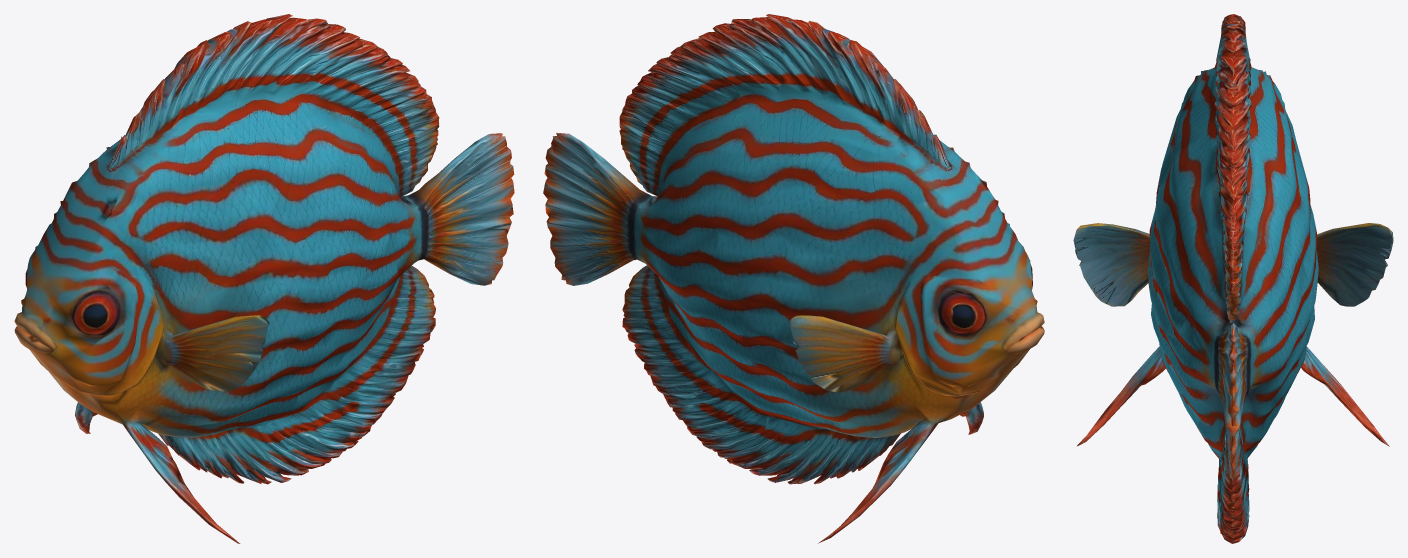
The model's file is fish-diskus.glb.
3 views of the same model, side by side, from view 1: azimuth 30°, elevation 25°; view 2: azimuth 150°, elevation 25°; view 3: azimuth 270°, elevation 25° (orthographic). The views are drawn at different scales.
Visible parts, largest first — view 1: tripo_node_a6161b62-15ba-487b-a47b-e187db619764; view 2: tripo_node_a6161b62-15ba-487b-a47b-e187db619764; view 3: tripo_node_a6161b62-15ba-487b-a47b-e187db619764.
Boxes of the visible parts, x1,y1,x2,y2 form: tripo_node_a6161b62-15ba-487b-a47b-e187db619764: [14, 14, 514, 543]; tripo_node_a6161b62-15ba-487b-a47b-e187db619764: [543, 14, 1044, 543]; tripo_node_a6161b62-15ba-487b-a47b-e187db619764: [1073, 14, 1393, 543].
Bounding box in the file's own units: 1 × 0.9048 × 0.5401.
Materials: 1 (1 with a texture image).
